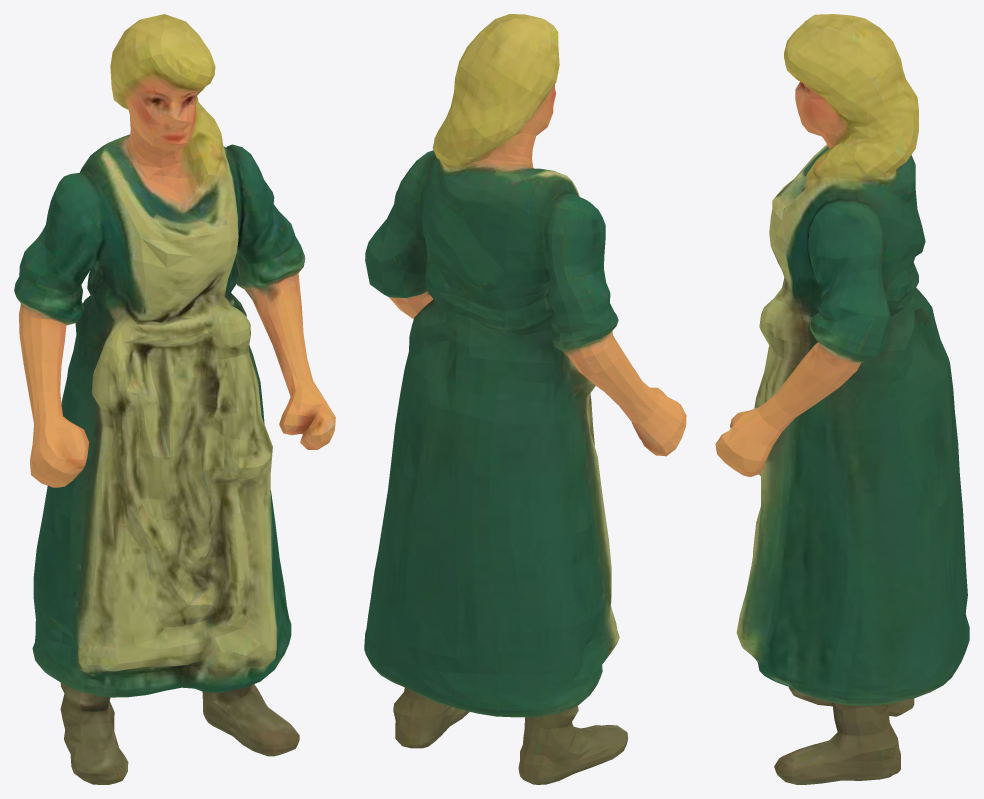
Rendered from villager_maid.glb.
The picture shows the model from 3 angles, left to right: view 1: azimuth 30°, elevation 25°; view 2: azimuth 150°, elevation 25°; view 3: azimuth 270°, elevation 25°; orthographic projection. The views are drawn at different scales.
Size of the model in its own units: 0.7867 by 1.91 by 0.6106.
Materials: 1 (1 with a texture image).
